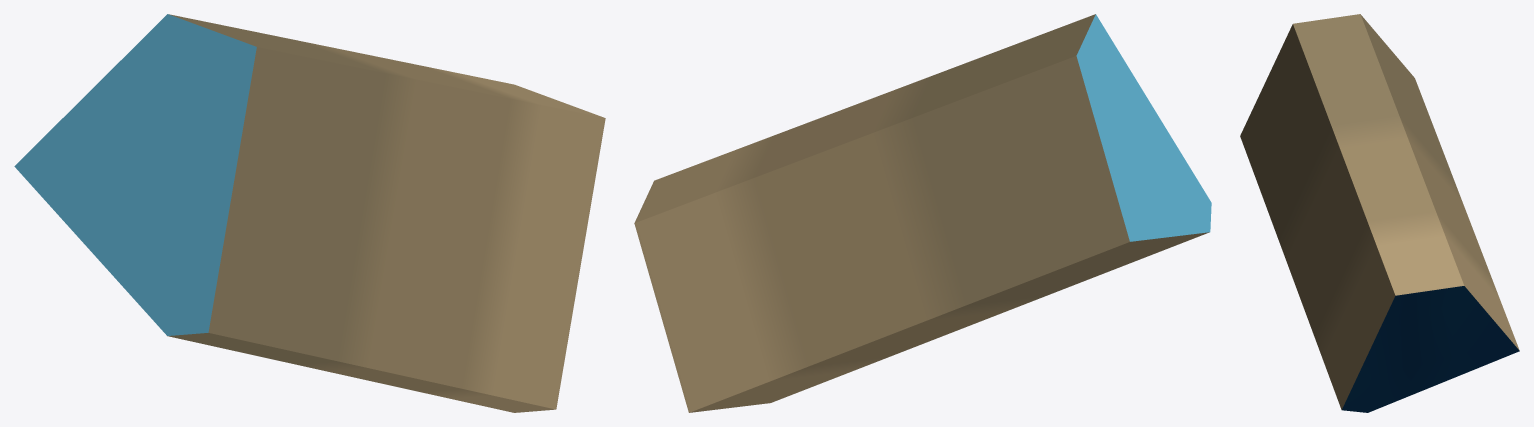
Rendered from 05e6_Saint_Vincent_and_the_Grenadines.glb.
The picture shows the model from 3 angles, left to right: view 1: azimuth 30°, elevation 25°; view 2: azimuth 150°, elevation 25°; view 3: azimuth 270°, elevation 25°; orthographic projection. The views are drawn at different scales.
Visible parts, largest first — view 1: part_0; view 2: part_0; view 3: part_0.
Part boxes in pixels (left/top/right/bottom): part_0: left=14, top=14, right=605, bottom=412; part_0: left=634, top=14, right=1211, bottom=412; part_0: left=1240, top=14, right=1519, bottom=412.
Bounding box in the file's own units: 0.2246 × 0.1827 × 0.157.
Materials: 1 (1 with a texture image).
